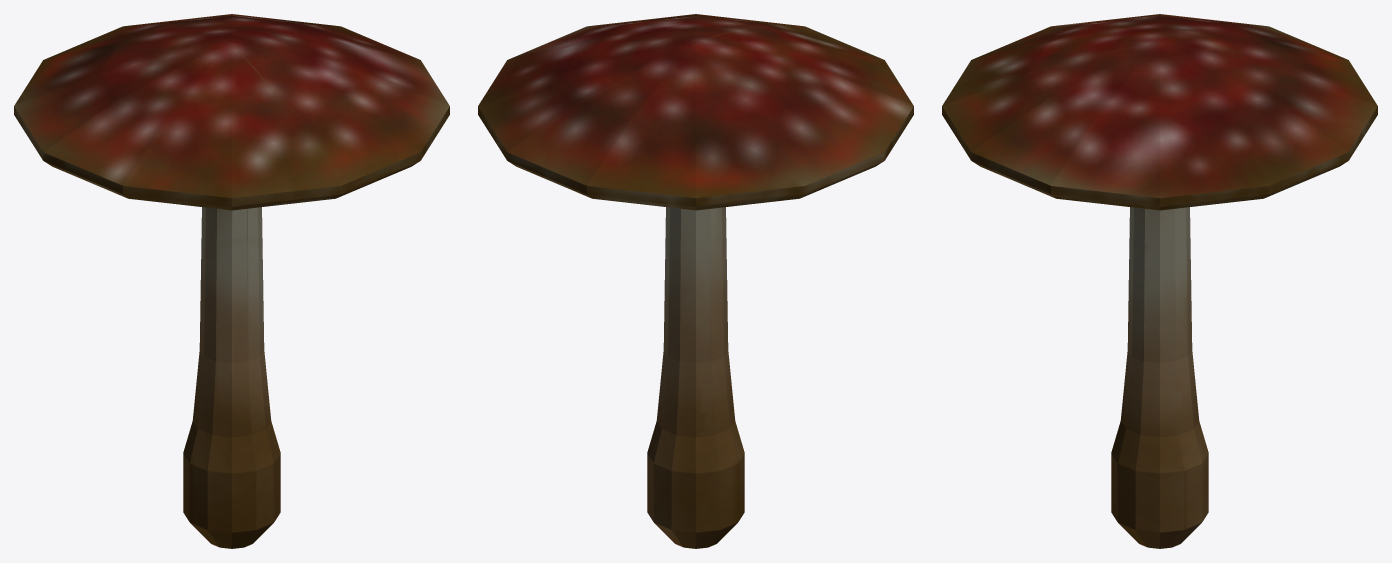
The model's file is Mushroom_2.glb.
3 views of the same model, side by side, from view 1: azimuth 30°, elevation 25°; view 2: azimuth 150°, elevation 25°; view 3: azimuth 270°, elevation 25° (orthographic).
Visible parts, largest first — view 1: Mushroom_2; view 2: Mushroom_2; view 3: Mushroom_2.
Boxes of the visible parts, <box> form: Mushroom_2: <box>14,14,449,548</box>; Mushroom_2: <box>478,14,913,548</box>; Mushroom_2: <box>942,14,1377,548</box>.
Size of the model in its own units: 0.3088 by 0.3872 by 0.3088.
Materials: 1 (1 with a texture image).
